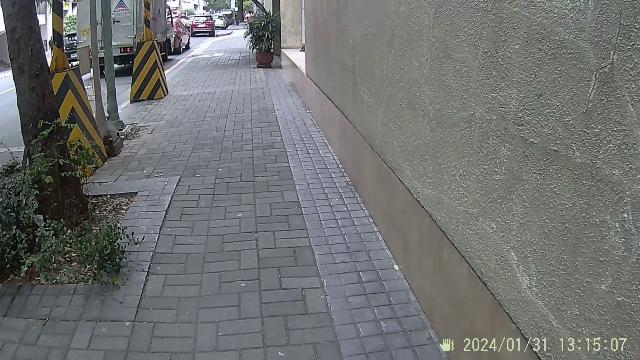construction_materials: (40, 2, 108, 166), (126, 0, 170, 106)
potted_plant: (240, 10, 288, 74)
tree: (0, 1, 94, 238)
utility_post: (82, 2, 134, 158)
